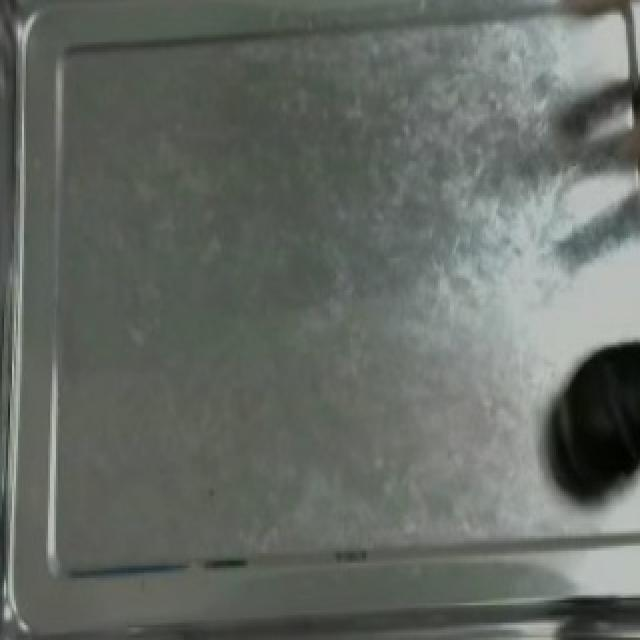Fruit: (544, 332, 640, 493)
